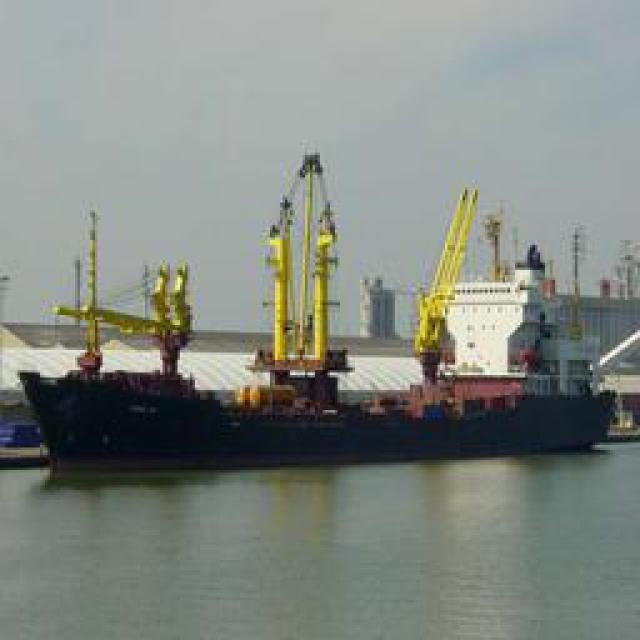Ship: (25, 145, 620, 460)
